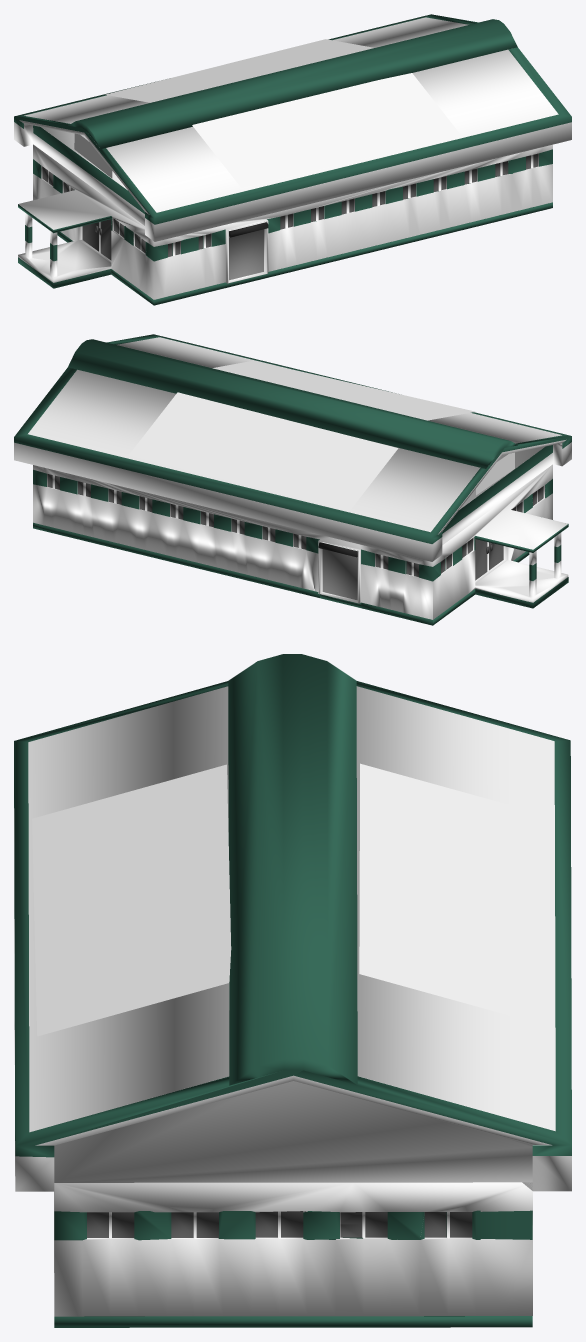
The model's file is ecl.glb.
The picture shows the model from 3 angles, top to bottom: view 1: azimuth 30°, elevation 25°; view 2: azimuth 150°, elevation 25°; view 3: azimuth 270°, elevation 25°; orthographic projection. The views are drawn at different scales.
Parts seen in each view (by area): view 1: Plane.090; view 2: Plane.090; view 3: Plane.090.
Boxes of the visible parts, x1=… form: Plane.090: x1=14, y1=14, x2=571, y2=305; Plane.090: x1=14, y1=334, x2=571, y2=625; Plane.090: x1=14, y1=654, x2=571, y2=1327.
Size of the model in its own units: 955 by 273 by 498.
Materials: 2 (2 with a texture image).
